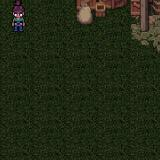Obstacle: (129, 0, 160, 61), (72, 0, 128, 28)
Victim: (5, 0, 30, 40)
